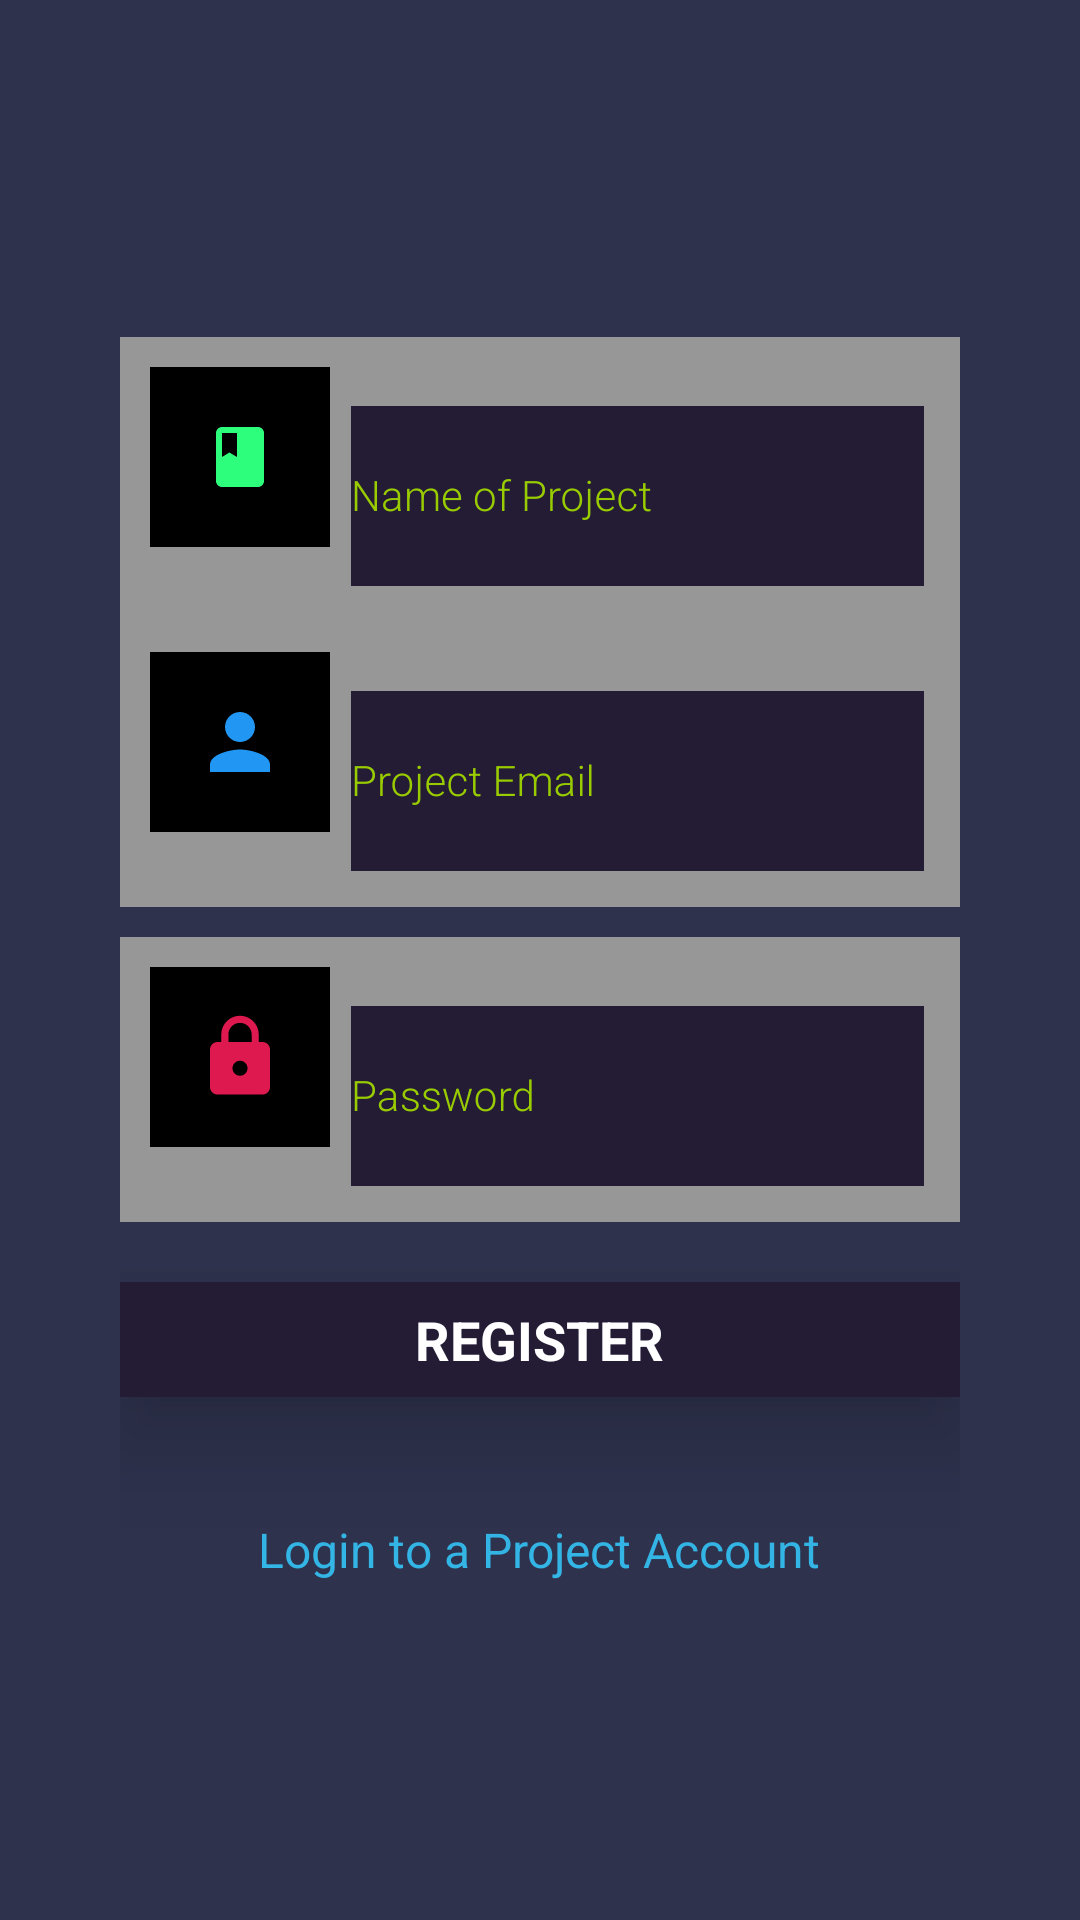

Icons on this 1080x1920 Android screen, each with its box as bbox=[x1, y1, x2, y2]:
lock: bbox=[150, 967, 330, 1147]
person: bbox=[150, 652, 330, 832]
